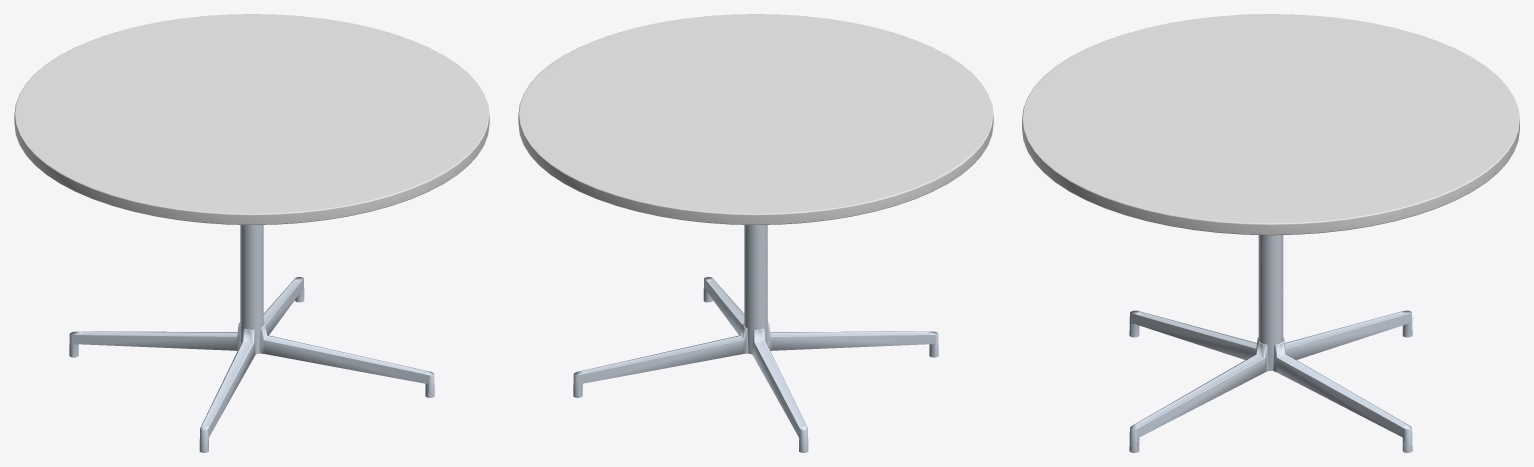
File: RoundTable.fbx
3 renders of one model, left to right at view 1: azimuth 30°, elevation 25°; view 2: azimuth 150°, elevation 25°; view 3: azimuth 270°, elevation 25°, orthographic. The views are drawn at different scales.
Parts seen in each view (by area): view 1: RoundTable; view 2: RoundTable; view 3: RoundTable.
Part boxes in pixels (<box>): RoundTable: <box>14,14,489,452</box>; RoundTable: <box>518,14,993,452</box>; RoundTable: <box>1022,14,1519,452</box>.
Size of the model in its own units: 121 by 73.65 by 121.
